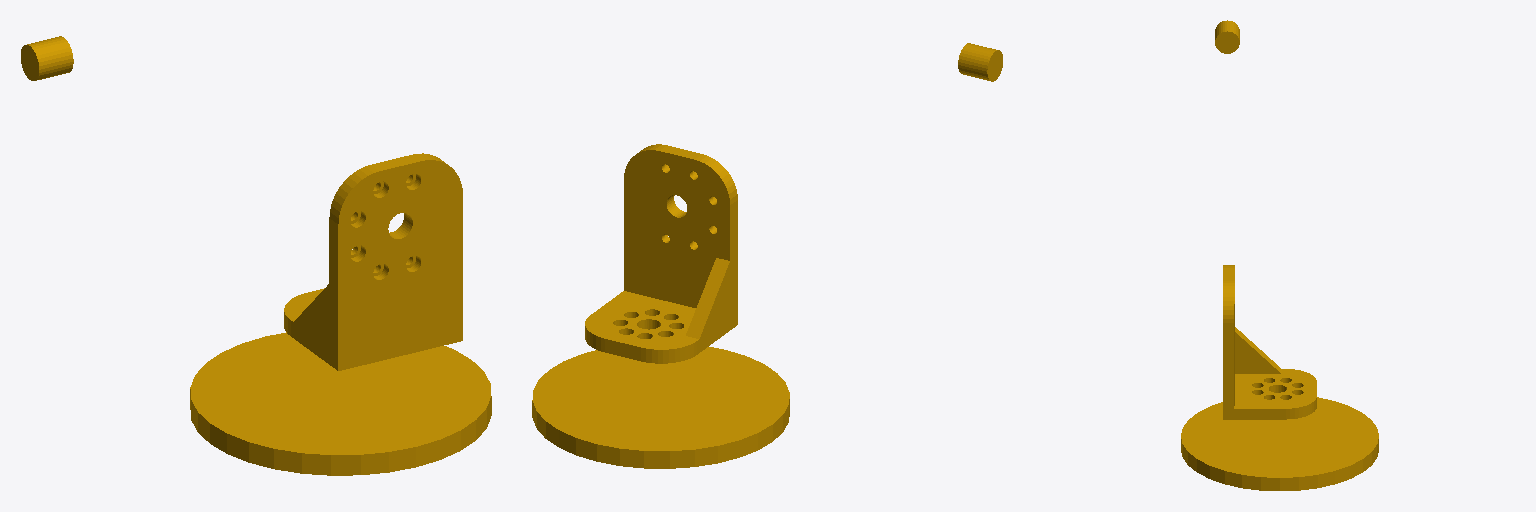
URDF robot description (example):
<?xml version="1.0"?>

<robot name="example">
  
  <!-- *************************************************** -->
  <!-- ***************** Kinematic Chain ***************** -->
  <!-- *************************************************** -->
  <!-- Note the 'origin' tag in the joints defines the
       shift and reorientation before the continuous joint
       rotates around the 'axis'. -->


  <!-- Locate the base plate at the world origin. -->
  <joint name="place" type="fixed">
    <parent link="world"/>
    <child  link="baseplate"/>
    <origin xyz="0 0 0" rpy="0 0 0"/>
  </joint>

  <!-- Shift across the base plate to the base motor. -->
  <joint name="baseplate" type="fixed">
    <parent link="baseplate"/>
    <child  link="basemotor"/>
    <origin xyz="0.08 0 0.012" rpy="0 0 0"/>
  </joint>

  <!-- Base motor.  Thickness: X5 = 31.1mm, X8 = 45.1mm -->
  <joint name="base" type="continuous">
    <parent link="basemotor"/>
    <child  link="lbracket"/>
    <origin xyz="0 0 0.0311" rpy="0 0 0"/>
    <axis   xyz="0 0 1"/>
  </joint>

  <!-- Shift across the L bracket -->
  <joint name="lbracket" type="fixed">
    <parent link="lbracket"/>
    <child  link="shouldermotor"/>
    <origin xyz="0 -0.035 0.075" rpy="1.5708 0 3.1415"/>
  </joint>

  <!-- Shoulder motor.  Thickness: X5 = 31.1mm, X8 = 45.1mm -->
  <joint name="shoulder" type="continuous">
    <parent link="shouldermotor"/>
    <child  link="upperarm"/>
    <origin xyz="0 0 0.0451" rpy="0 0 0"/>
    <axis   xyz="0 0 1"/>
  </joint>

  <!-- Shift across the upper arm (1/4in thickness) -->
  <joint name="upperarm" type="fixed">
    <parent link="upperarm"/>
    <child  link="elbowmotor"/>
    <origin xyz="0 0.3 0" rpy="0 3.1415 -1.5708"/>
  </joint>

  <!-- Elbow motor.  Thickness: X5 = 31.1mm, X8 = 45.1mm -->
  <joint name="elbow" type="continuous">
    <parent link="elbowmotor"/>
    <child  link="lowerarm"/>
    <origin xyz="0 0 .0311" rpy="0 0 0"/>
    <axis   xyz="0 0 1"/>
  </joint>

  <!-- Shift across the upper arm (1/4in thickness) -->
  <joint name="lowerarm" type="fixed">
    <parent link="lowerarm"/>
    <child  link="wristmotor"/>
    <origin xyz="0 0.30095 0" rpy="0 3.1415 1.5708"/>
  </joint>

  <!-- Wrist motor.  Thickness: X5 = 31.1mm, X8 = 45.1mm -->
  <joint name="wrist" type="continuous">
    <parent link="wristmotor"/>
    <child  link="hand"/>
    <origin xyz="0 0 .0311" rpy="0 0 0"/>
    <axis   xyz="0 0 1"/>
  </joint>

  <!-- Shift across the hand (1/4in thickness) -->
  <joint name="hand" type="fixed">
    <parent link="hand"/>
    <child  link="lbracket2"/>
    <origin xyz="0 0.15266 0" rpy="0 0 0"/>
  </joint>

  <!-- Shift across the second L bracket -->
  <joint name="lbracket2" type="fixed">
    <parent link="lbracket2"/>
    <child  link="fingermotor"/>
    <origin xyz=".045 0 -0.0525" rpy="-1.5708 0 -1.5708"/>
  </joint>

  <!-- Finger motor.  Thickness: X5 = 31.1mm, X8 = 45.1mm -->
  <joint name="finger" type="continuous">
    <parent link="fingermotor"/>
    <child  link="magnet"/>
    <origin xyz="0 0 .0311" rpy="0 0 0"/>
    <axis   xyz="0 0 1"/>
  </joint>

  <!-- Magnet -->
  <joint name="magnet" type="fixed">
    <parent link="magnet"/>
    <child  link="tip"/>
    <origin xyz="0 0 0.025" rpy="0 0 0"/>
  </joint>
  
  <!-- *************************************************** -->
  <!-- *************** Visual Link Elements ************** -->
  <!-- *************************************************** -->
  <!-- Note collada .dae files have better color/texture   -->
  <!-- suppport that STL files.                            -->

  <!-- Colors -->
  <material name="wood">  <color rgba="0.82 0.62 0.04 1"/>  </material>
  <material name="hebi">  <color rgba="0.82 0.06 0.06 1"/>  </material>

  <!-- World can't take a visual element (at least in Gazebo). -->
  <link name="world"/>

  <link name="baseplate">
    <visual>
      <origin xyz = "0.07 0 0" rpy = "0 0 0"/>
      <geometry>
        <cylinder length="0.012" radius="0.08"/>
      </geometry>
      <material name="wood"/>
    </visual>
  </link>

  <link name="basemotor">
    <visual>
      <geometry>
        <mesh filename="package://basic134/meshes/X5.stl"
	      scale="0.001 0.001 0.001"/>
      </geometry>
      <material name="hebi"/>
    </visual>
  </link>

  <link name="lbracket">
    <visual>
      <origin xyz = "0.038 0.03 0" rpy = "0 0 3.1415"/>
      <geometry>
        <mesh filename="package://basic134/meshes/lbracket.STL"
        scale="0.001 0.001 0.001"/>
      </geometry>
      <material name="wood"/>
    </visual>
  </link>

  <link name="shouldermotor">
    <visual>
      <geometry>
        <mesh filename="package://basic134/meshes/X8.stl"
	      scale="0.001 0.001 0.001"/>
      </geometry>
      <material name="hebi"/>
    </visual>
  </link>

  <link name="upperarm">
    <visual>
      <origin xyz = "0 0.15 0.0065" rpy = "0 1.5708 1.5708"/>
      <geometry>
        <mesh filename="package://basic134/meshes/arm_base.stl"
        scale="0.001 0.001 0.001"/>
      </geometry>
      <material name="wood"/>
    </visual>
  </link>

  <link name="elbowmotor">
    <visual>
      <geometry>
        <mesh filename="package://basic134/meshes/X5.stl"
	      scale="0.001 0.001 0.001"/>
      </geometry>
      <material name="hebi"/>
    </visual>
  </link>

  <link name="lowerarm">
    <visual>
      <origin xyz = "0.03 0.337 0.01" rpy = "3.1415 0 -1.5708"/>
      <geometry>
        <mesh filename="package://basic134/meshes/link.STL"
        scale="0.001 0.001 0.001"/>
      </geometry>
      <material name="wood"/>
    </visual>
  </link>

  <link name="wristmotor">
    <visual>
      <geometry>
        <mesh filename="package://basic134/meshes/X5.stl"
	      scale="0.001 0.001 0.001"/>
      </geometry>
      <material name="hebi"/>
    </visual>
  </link>

  <link name="hand">
    <visual>
      <origin xyz = "0.03 -0.0247 0" rpy = "0 0 1.5708"/>
      <geometry>
        <mesh filename="package://basic134/meshes/link_short.STL"
        scale="0.001 0.001 0.001"/>
      </geometry>
      <material name="wood"/>
    </visual>
  </link>

  <link name="lbracket2">
    <visual>
      <origin xyz = "0.045 0.0503 0" rpy = "-1.5708 0 3.1415"/>
      <geometry>
        <mesh filename="package://operation/meshes/lbracket2.STL"
        scale="0.001 0.001 0.001"/>
      </geometry>
      <material name="wood"/>
    </visual>
  </link>

  <link name="fingermotor">
    <visual>
      <geometry>
        <mesh filename="package://basic134/meshes/X5.stl"
	      scale="0.001 0.001 0.001"/>
      </geometry>
      <material name="hebi"/>
    </visual>
  </link>

  <link name="magnet">
    <visual>
      <origin xyz = "0 0 0.0105" rpy = "0 0 0"/>
      <geometry>
        <cylinder length="0.021" radius="0.01"/>
      </geometry>
      <material name="wood"/>
    </visual>
  </link>
  
  <link name="tip"/>

</robot>

--- Facts derived from the render (not from the file) ---
Views: 3 orthographic renders of the robot side by side, from view 1: azimuth 30°, elevation 25°; view 2: azimuth 150°, elevation 25°; view 3: azimuth 270°, elevation 25°.
Robot: example — 14 links, 13 joints (5 continuous, 8 fixed); root link world; default pose: all joints at 0.
Links seen in each view (by area): view 1: baseplate, lbracket, magnet; view 2: baseplate, lbracket, magnet; view 3: baseplate, lbracket, magnet.
Link boxes in pixels (x1,y1,x2,y2): baseplate: (190,332,491,475); lbracket: (284,153,462,370); magnet: (21,36,73,80); baseplate: (532,347,789,468); lbracket: (585,144,737,363); magnet: (958,43,1002,81); baseplate: (1181,397,1378,490); lbracket: (1223,265,1316,419); magnet: (1215,20,1239,53).
Size in the robot's own frame: 0.2948 by 0.16 by 0.2814 metres.
1 mesh visuals loaded from 7 distinct referenced files (1 binary STL); not drawn: 9 (file found but could not be loaded).